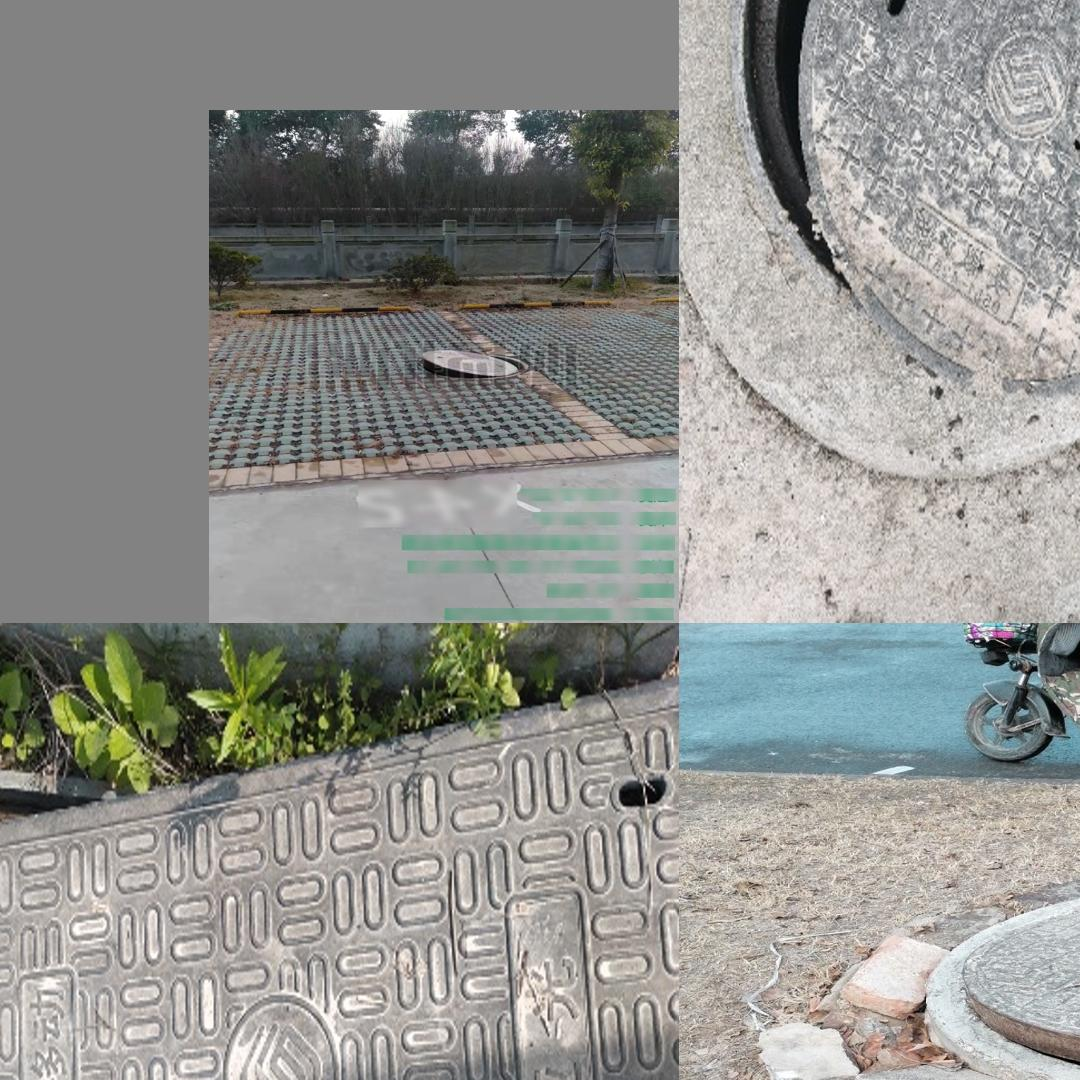uncovered: (0, 674, 679, 1080), (731, 0, 1080, 393), (928, 880, 1080, 1080), (413, 349, 530, 381)
